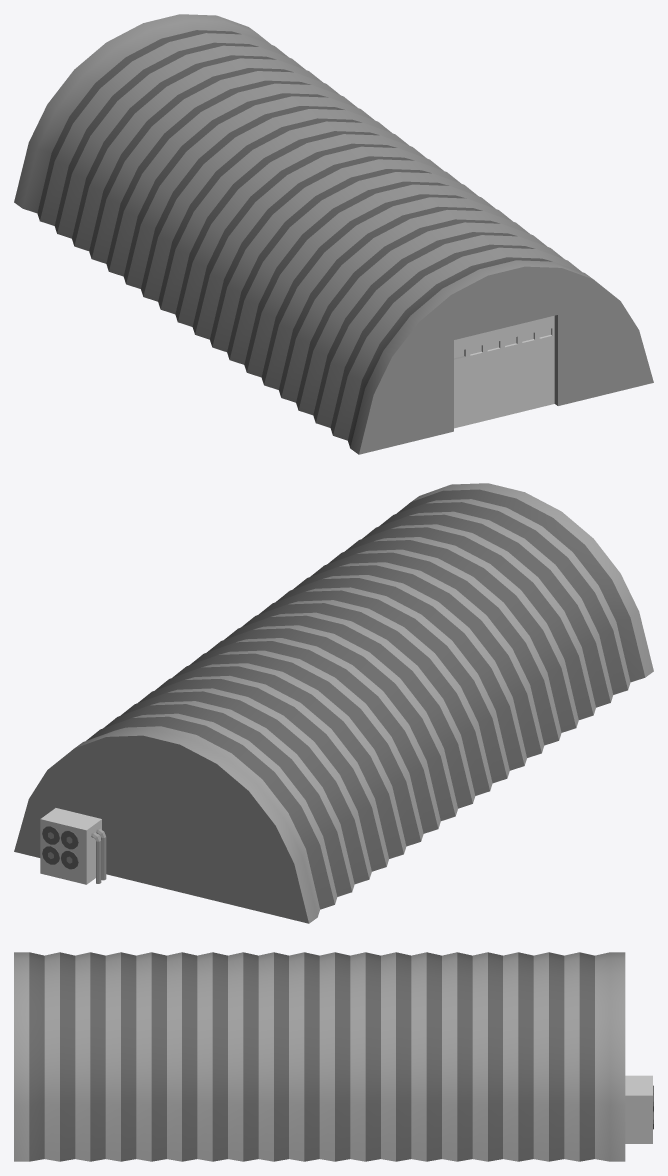
File: Bunker.fbx
3 renders of one model, top to bottom at view 1: azimuth 30°, elevation 25°; view 2: azimuth 150°, elevation 25°; view 3: azimuth 270°, elevation 25°, orthographic. The views are drawn at different scales.
Parts seen in each view (by area): view 1: Bunker; view 2: Bunker; view 3: Bunker.
Part boxes in pixels (x1,y1,x2,y2): Bunker: (14, 14, 653, 454); Bunker: (14, 483, 653, 923); Bunker: (14, 952, 653, 1161).
Bounding box in the file's own units: 3.65 × 1.76 × 7.73.
